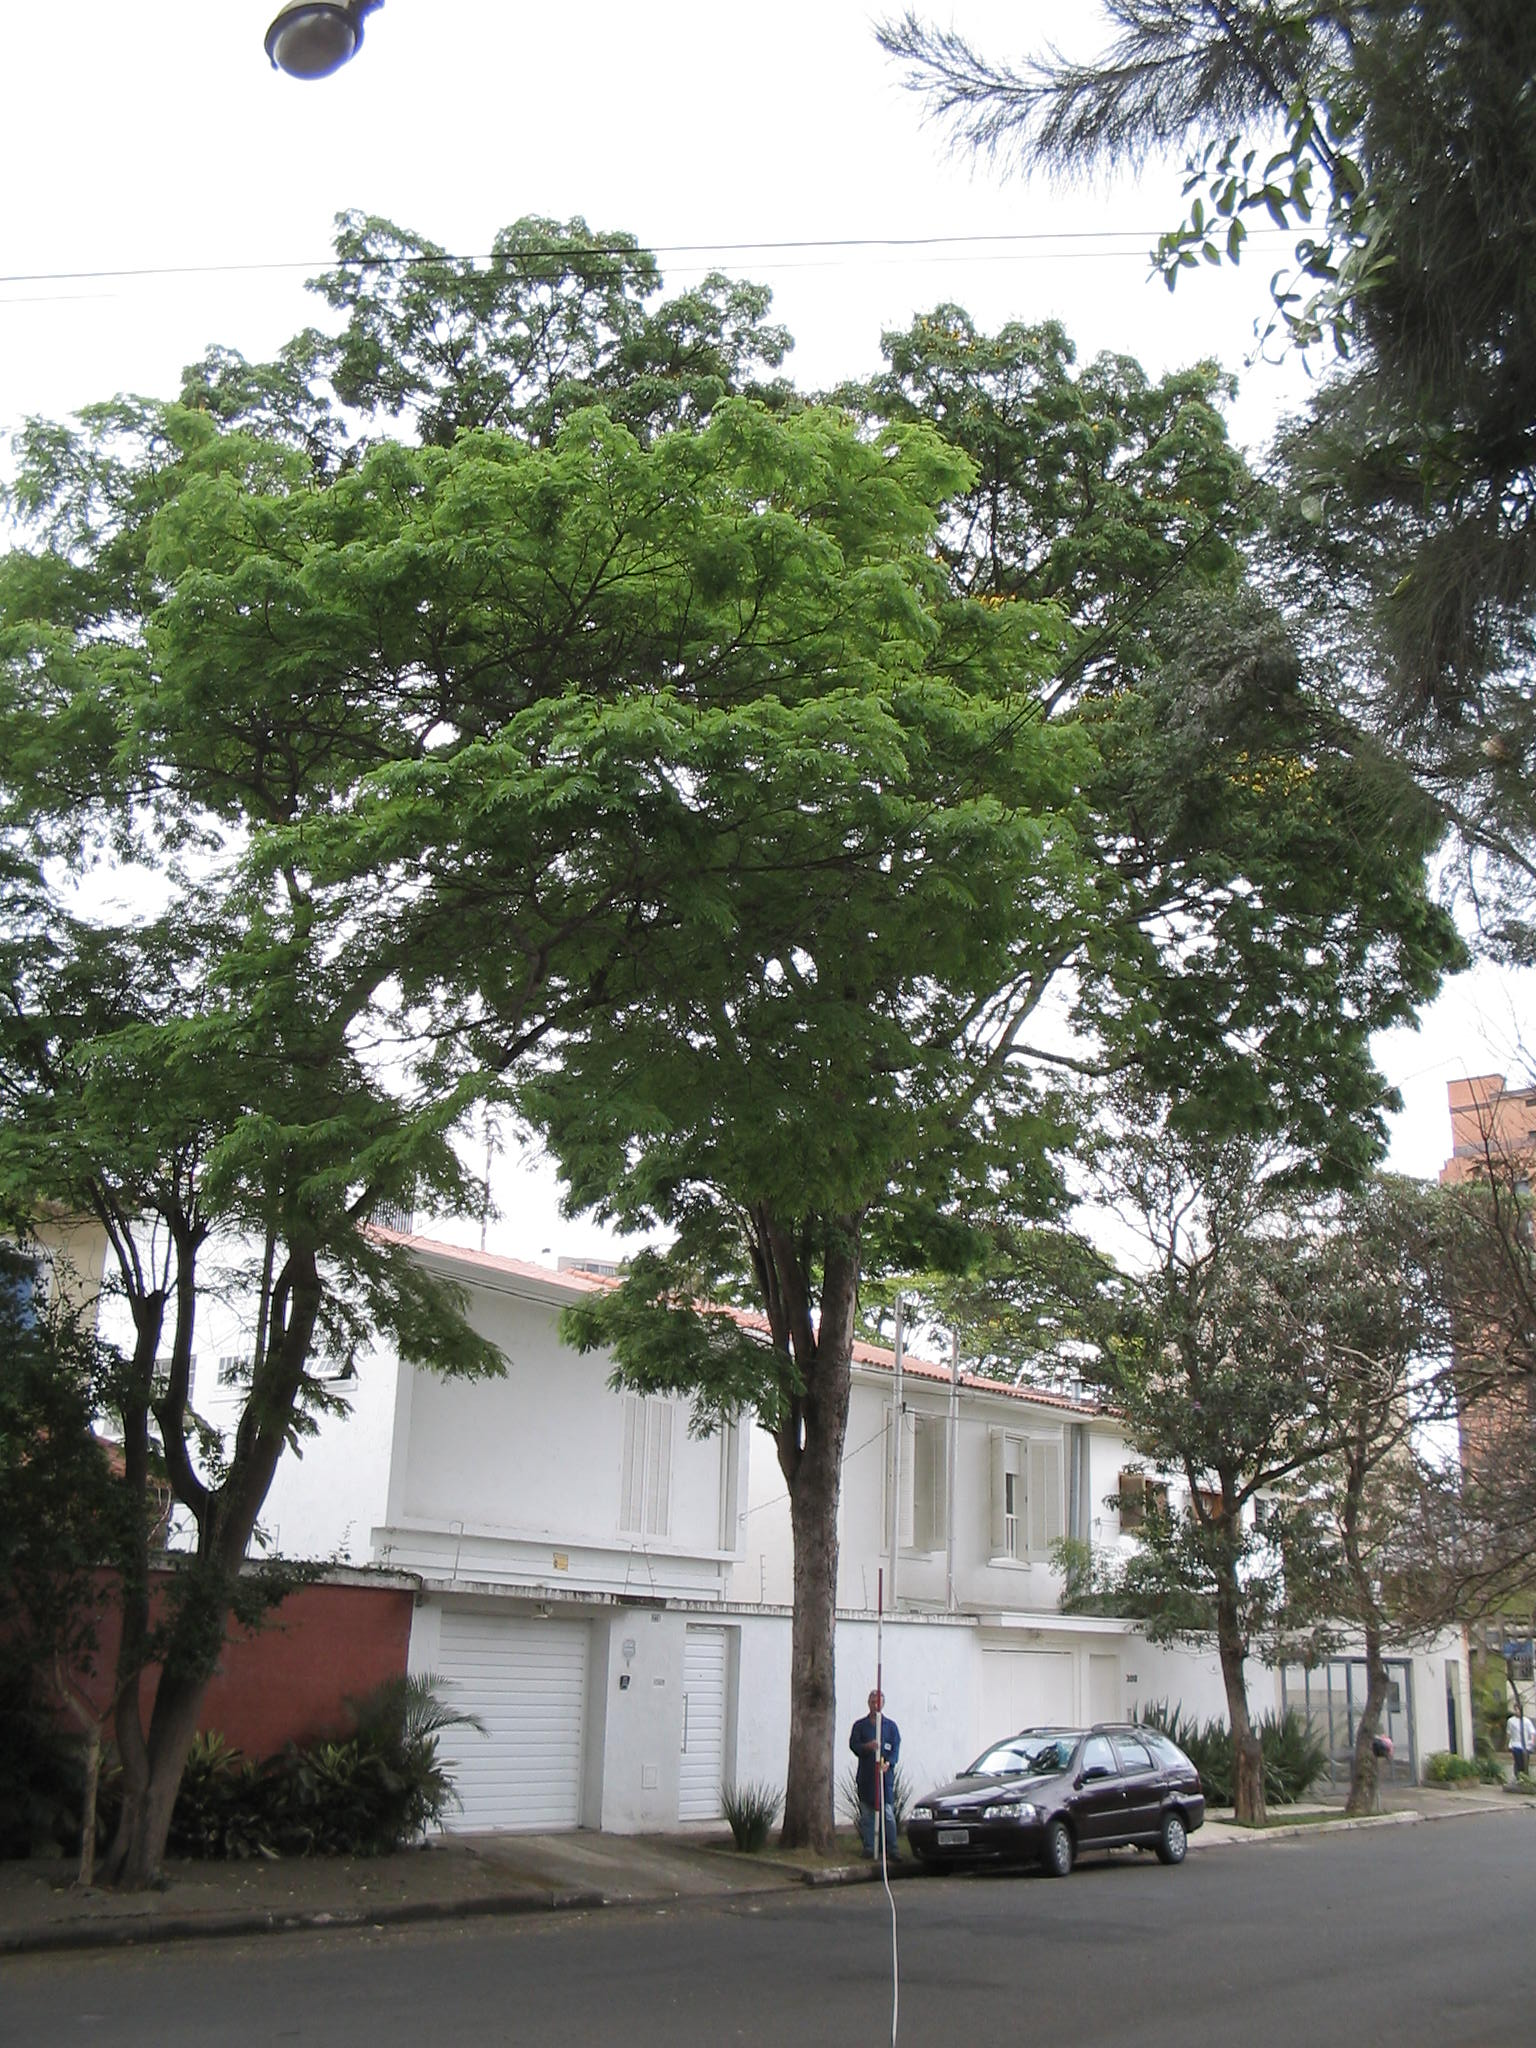crown: (131, 393, 1112, 1216)
stem: (744, 1458, 865, 1845), (1187, 1526, 1284, 1824)
stick: (857, 1567, 904, 1859)
tree: (123, 387, 1117, 1850), (941, 1230, 1347, 1825)
